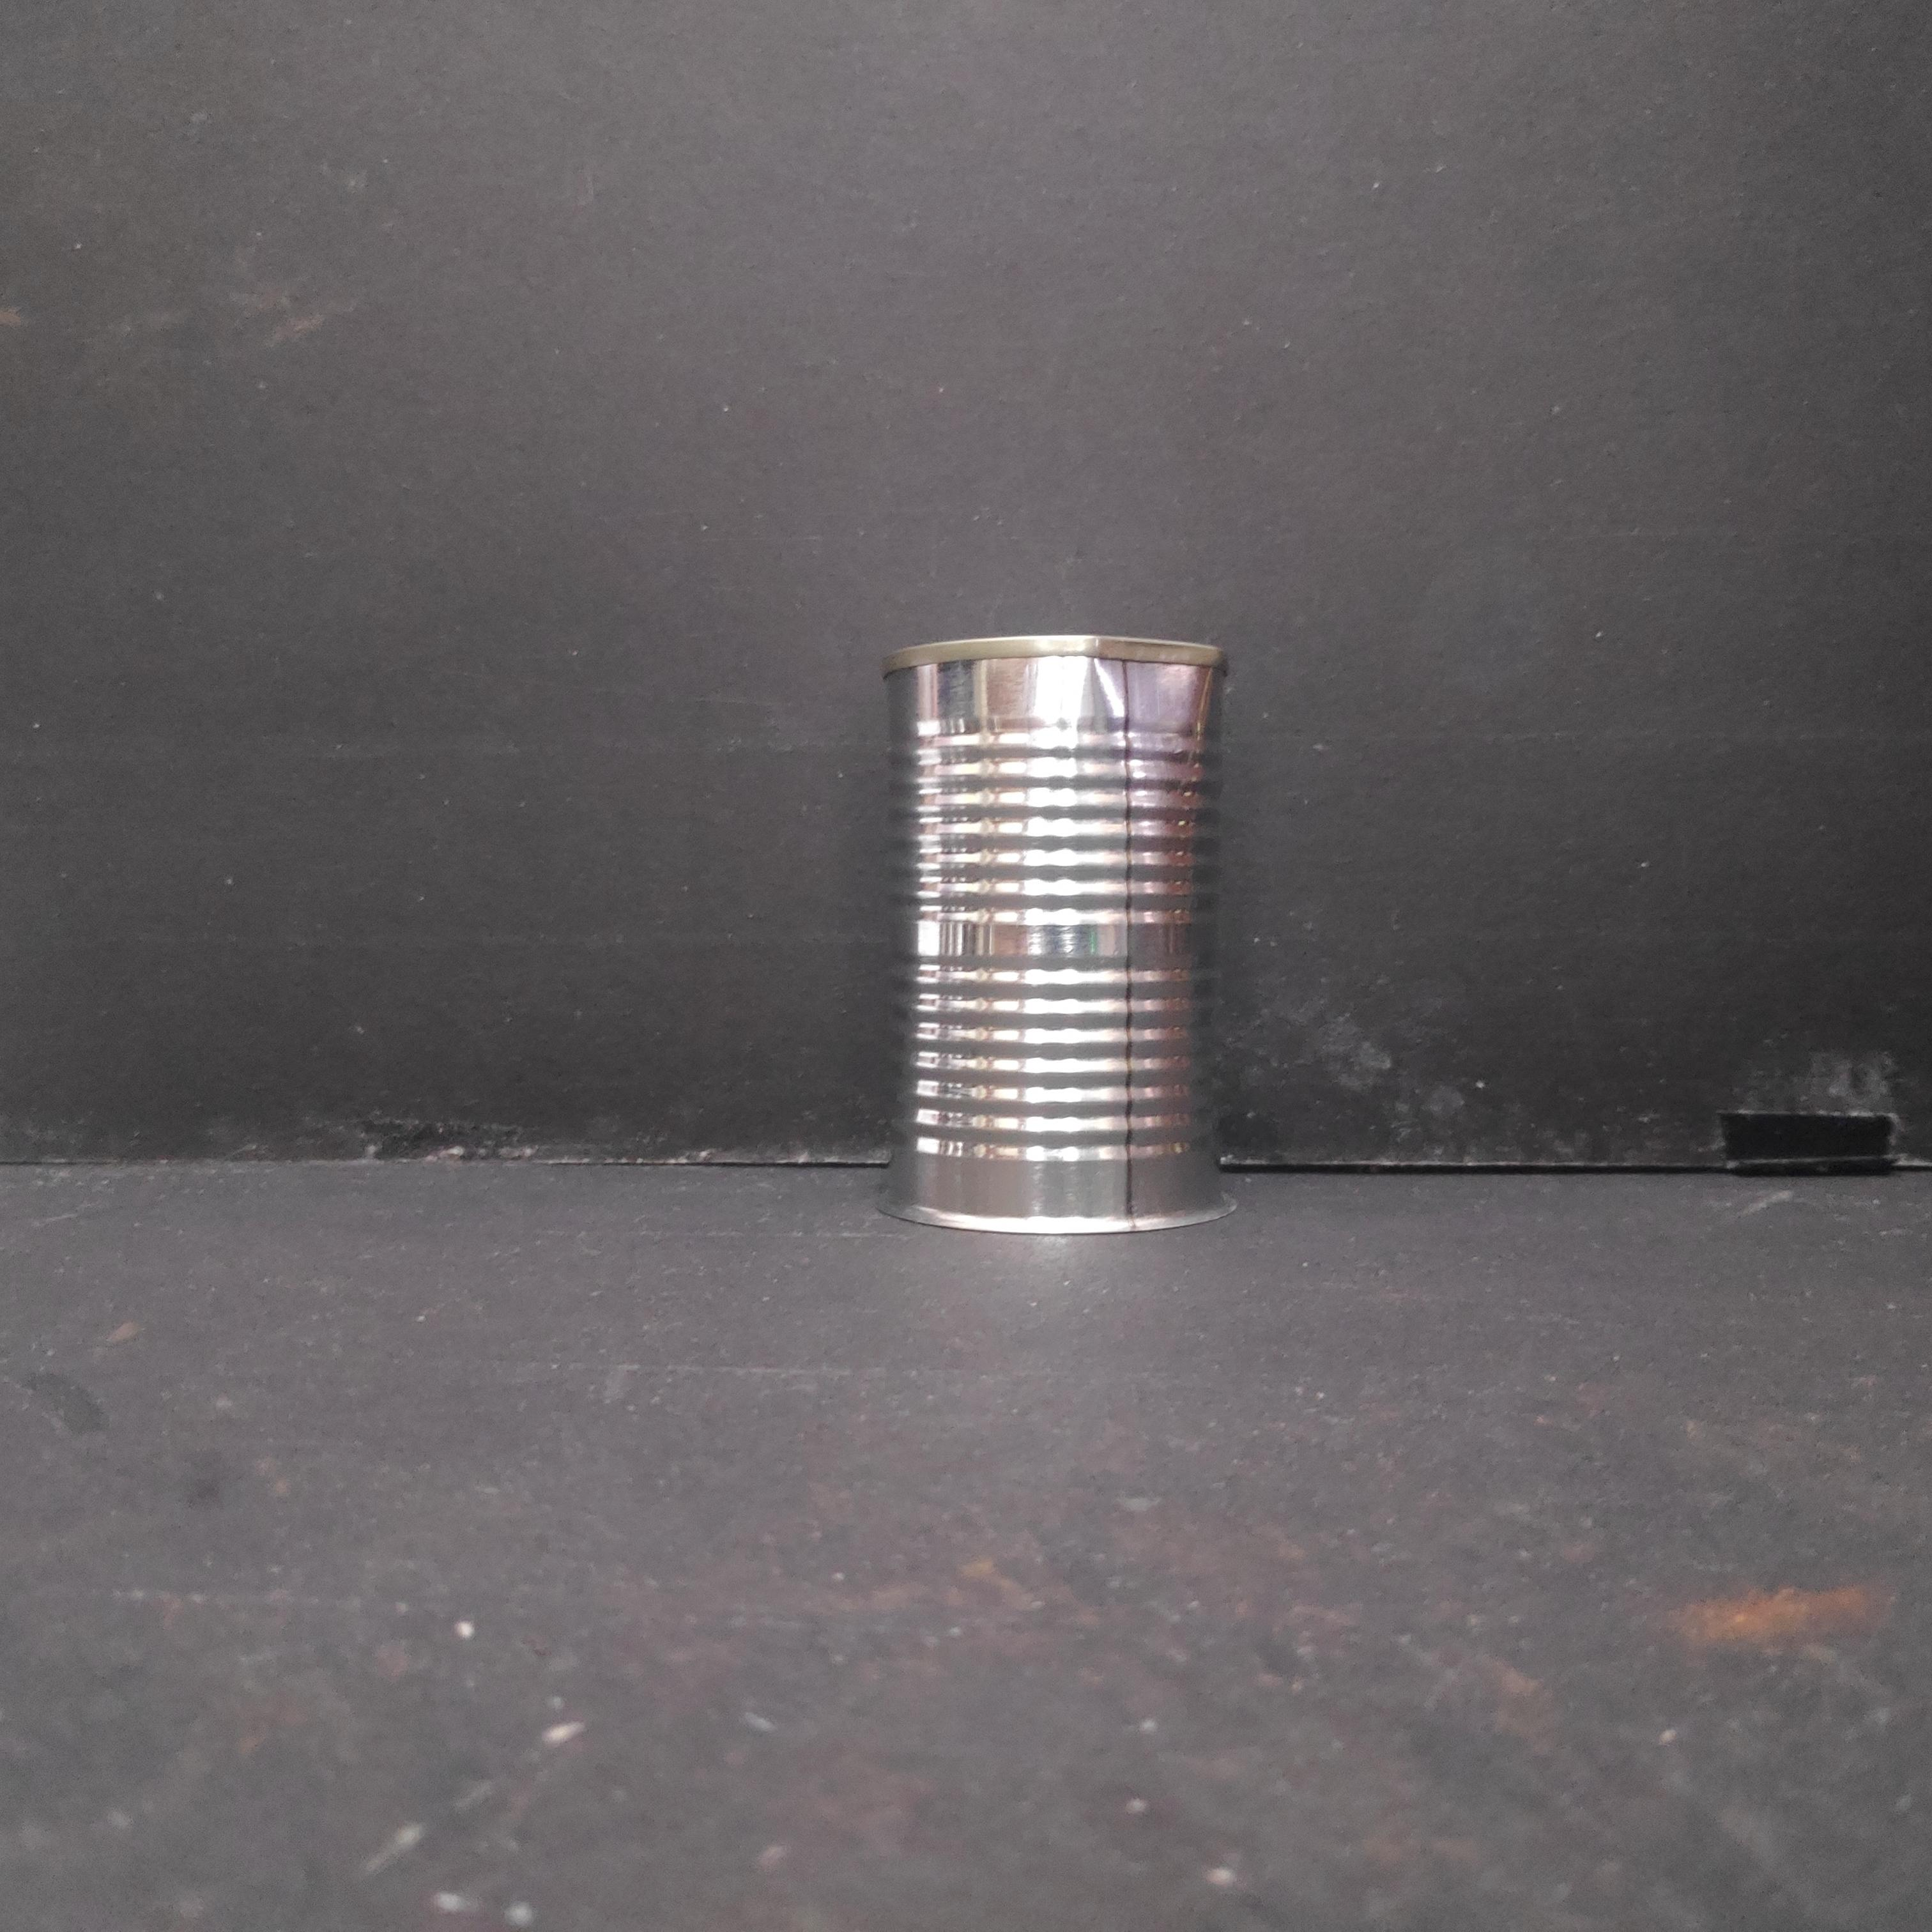Minor Defect: (876, 630, 1238, 1249)
